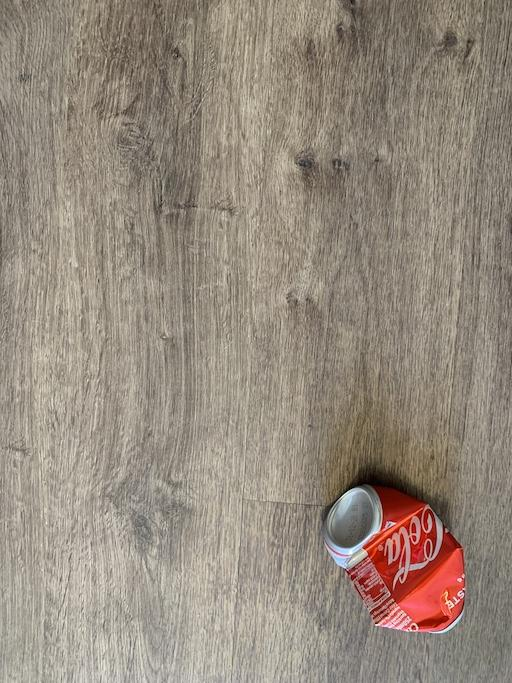Aluminum can: (312, 481, 477, 647)
